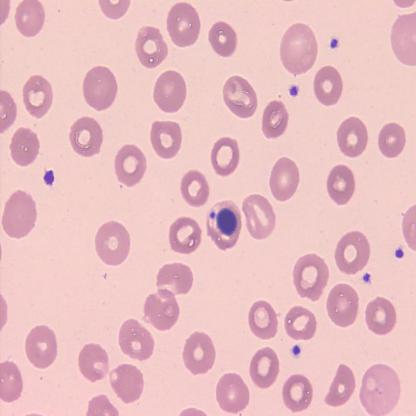NRC: (214, 205, 238, 238)
